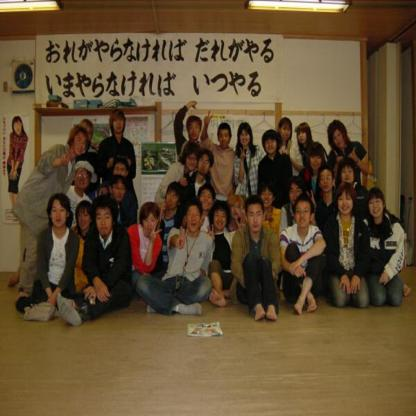face: (96, 207, 113, 236), (248, 205, 264, 233), (52, 201, 67, 228), (296, 201, 311, 228), (339, 191, 354, 215), (188, 206, 201, 233), (75, 167, 90, 189), (369, 196, 384, 217), (166, 186, 179, 210), (74, 134, 87, 156), (290, 184, 302, 207), (78, 209, 91, 230), (113, 181, 126, 202), (145, 213, 158, 234), (321, 170, 333, 192), (215, 208, 227, 230), (201, 190, 213, 211), (262, 188, 274, 208), (189, 121, 201, 141), (342, 165, 354, 185), (187, 149, 198, 170), (333, 130, 345, 149), (115, 163, 127, 182), (200, 153, 210, 174), (220, 128, 230, 149), (231, 201, 242, 220), (266, 136, 277, 154), (311, 152, 322, 170), (114, 115, 125, 133), (281, 124, 292, 141), (241, 130, 250, 146), (298, 130, 307, 144), (15, 122, 23, 135)
